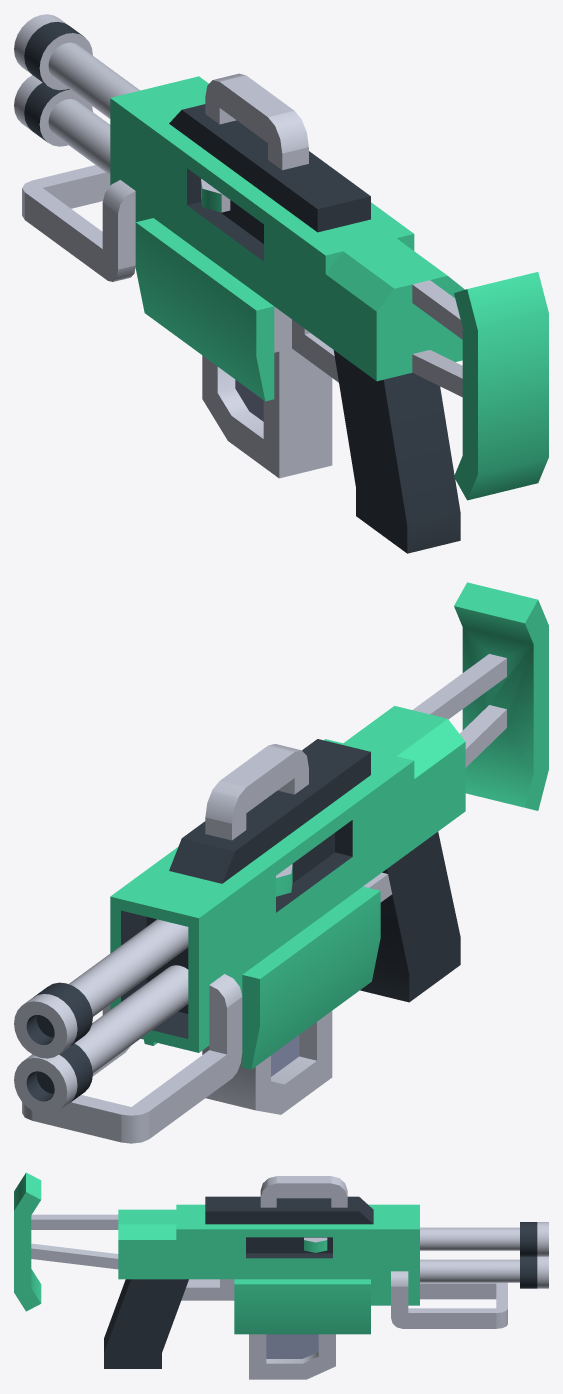
Rendered from blasterP.obj.
3 views of the same model, one above another, from view 1: azimuth 30°, elevation 25°; view 2: azimuth 150°, elevation 25°; view 3: azimuth 270°, elevation 25° (orthographic). The views are drawn at different scales.
Parts seen in each view (by area): view 1: blasterP; view 2: blasterP; view 3: blasterP.
Part boxes in pixels (x1=…): blasterP: x1=14, y1=14, x2=548, y2=553; blasterP: x1=14, y1=582, x2=548, y2=1143; blasterP: x1=14, y1=1172, x2=548, y2=1379.
Size of the model in its own units: 0.14 by 0.3659 by 0.9222.
